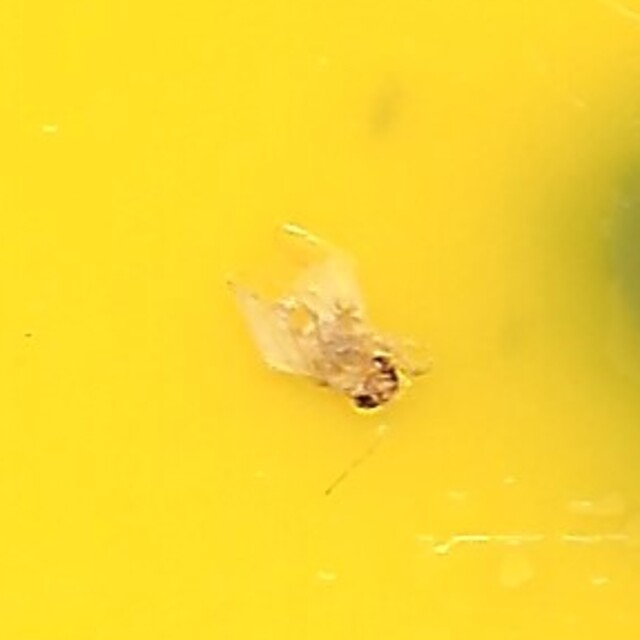Coleoptera: (223, 217, 417, 423)
